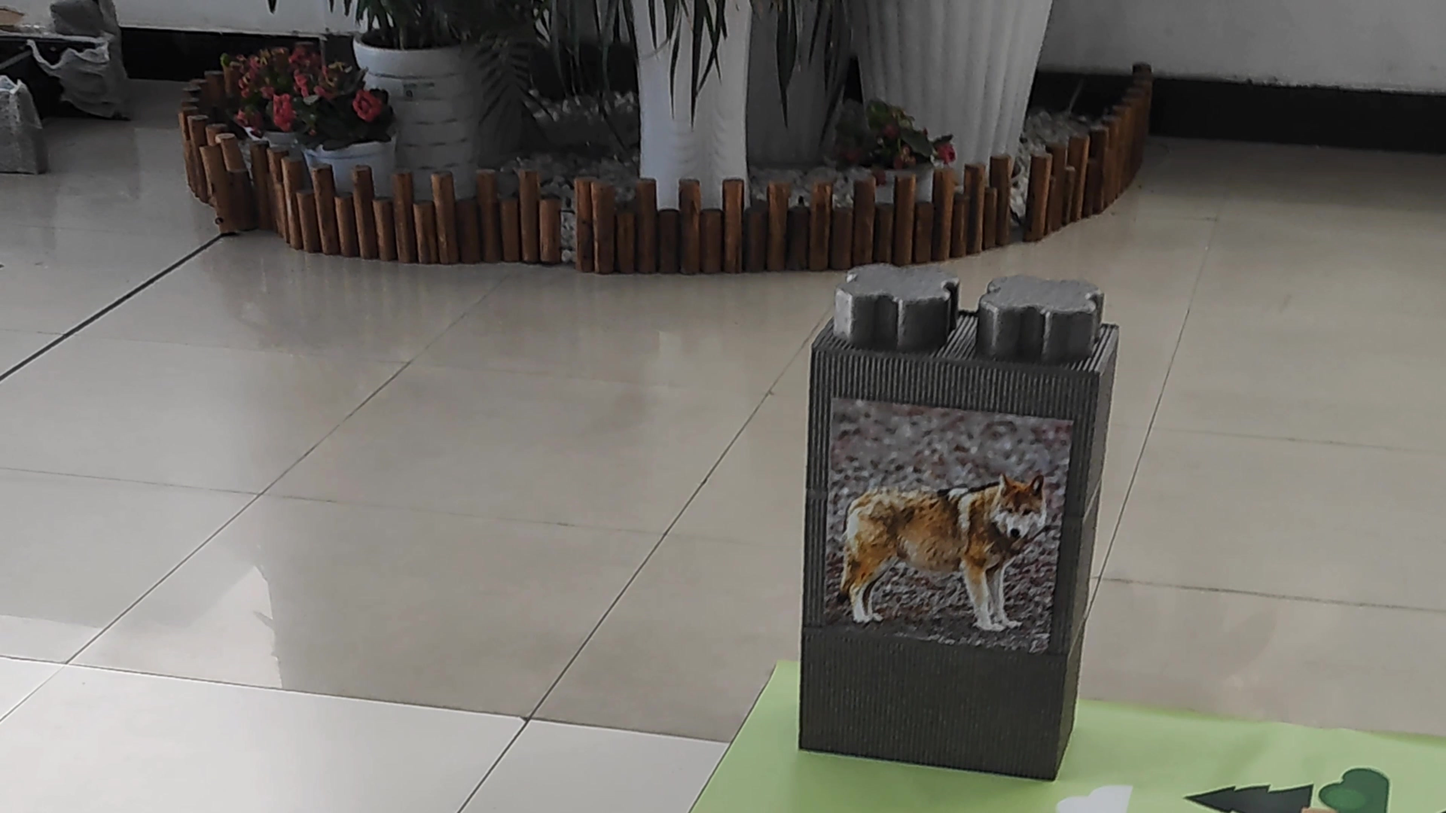wolf: (828, 406, 1055, 655)
